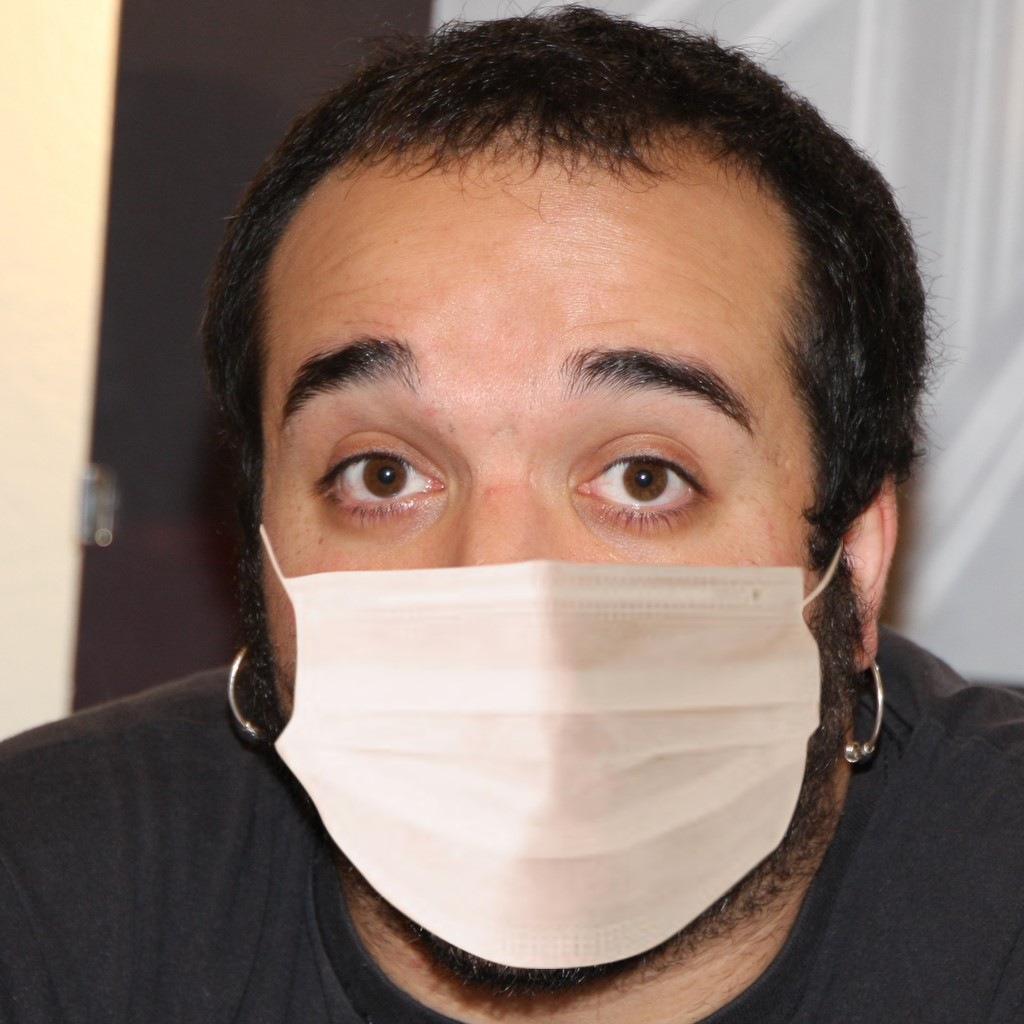con_mascara: (232, 93, 898, 957)
